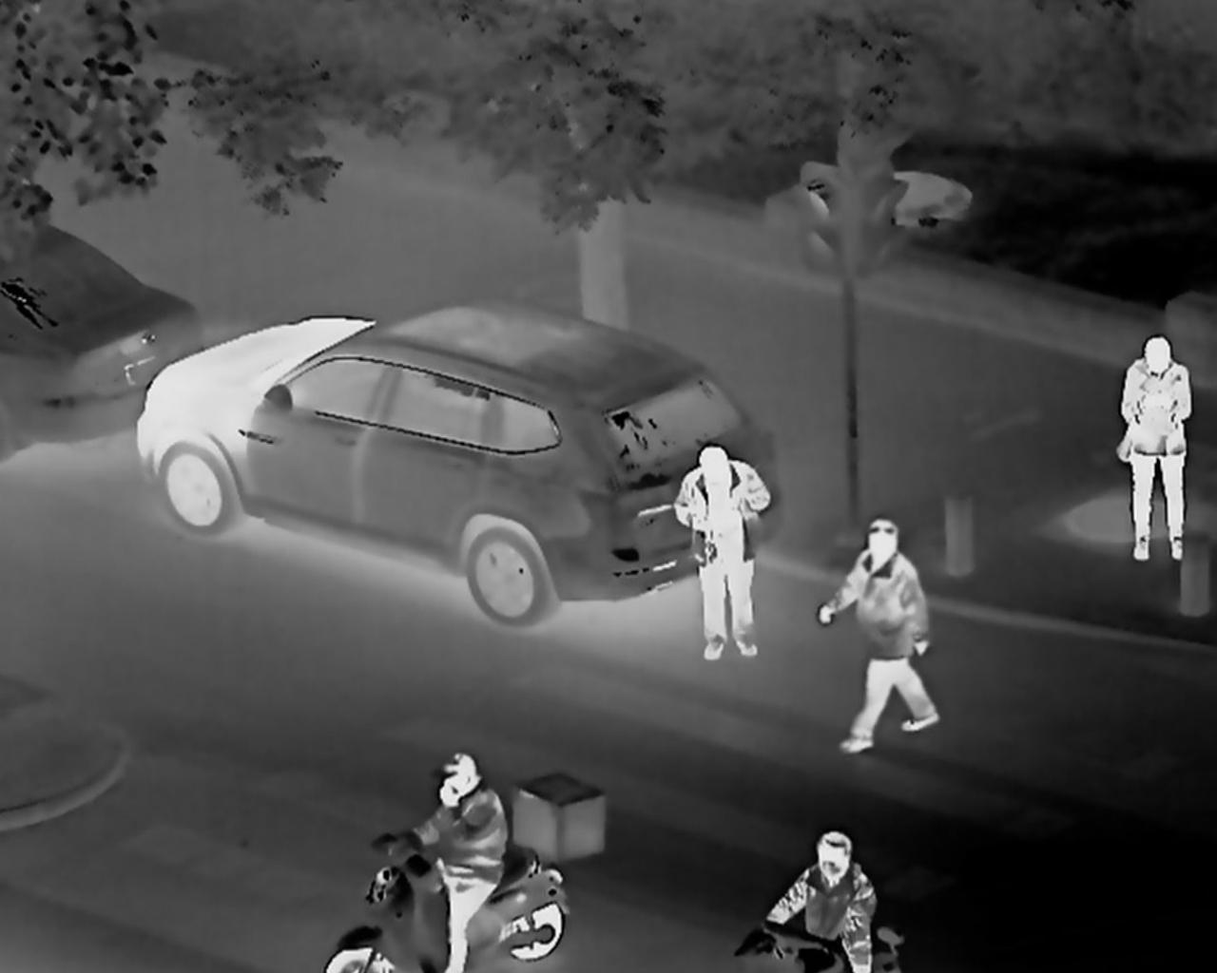person: (821, 516, 955, 763), (408, 741, 531, 973), (1131, 333, 1206, 577), (769, 818, 894, 953), (678, 446, 761, 632)
